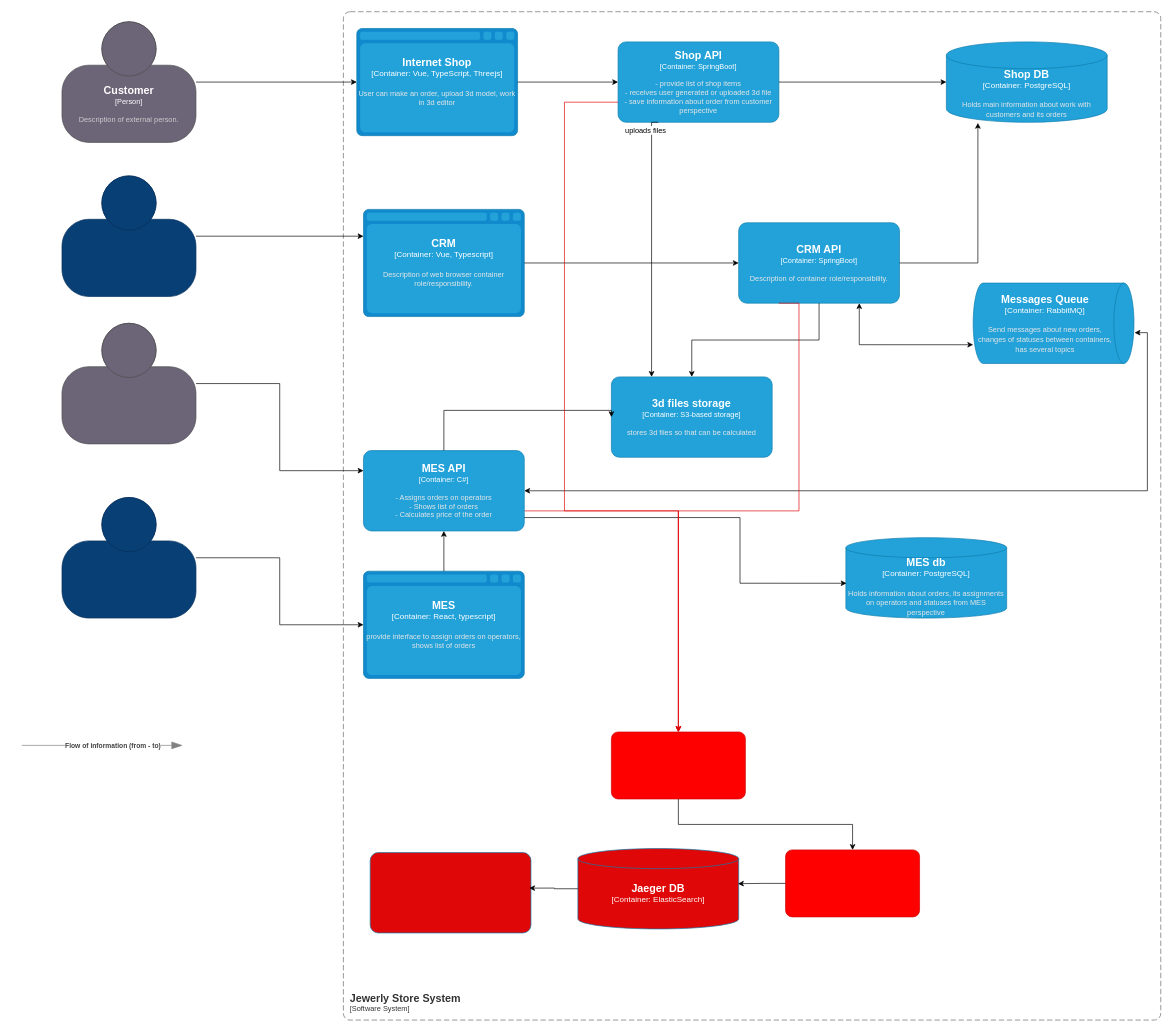
Image size: 1173x1032. Some labels were removed from this diagram. The shapes that lost their labels are listed below. From the top down, each one's centre as x and y in pixels, then its label:
(x=128, y=235): Seller [Person] Operates with order, confirms manufacturing for the user
(x=128, y=383): API user [Person] Description of external person.
(x=128, y=557): Operator [Person] Takes order in work, manufactures jewerly
(x=678, y=765): OpenTelemetry Agent [Container: OpenTelemetry]
(x=450, y=892): Jaeger UI [Container: JS]
(x=852, y=883): JaegerCollector [Container: JaegerCollector]
